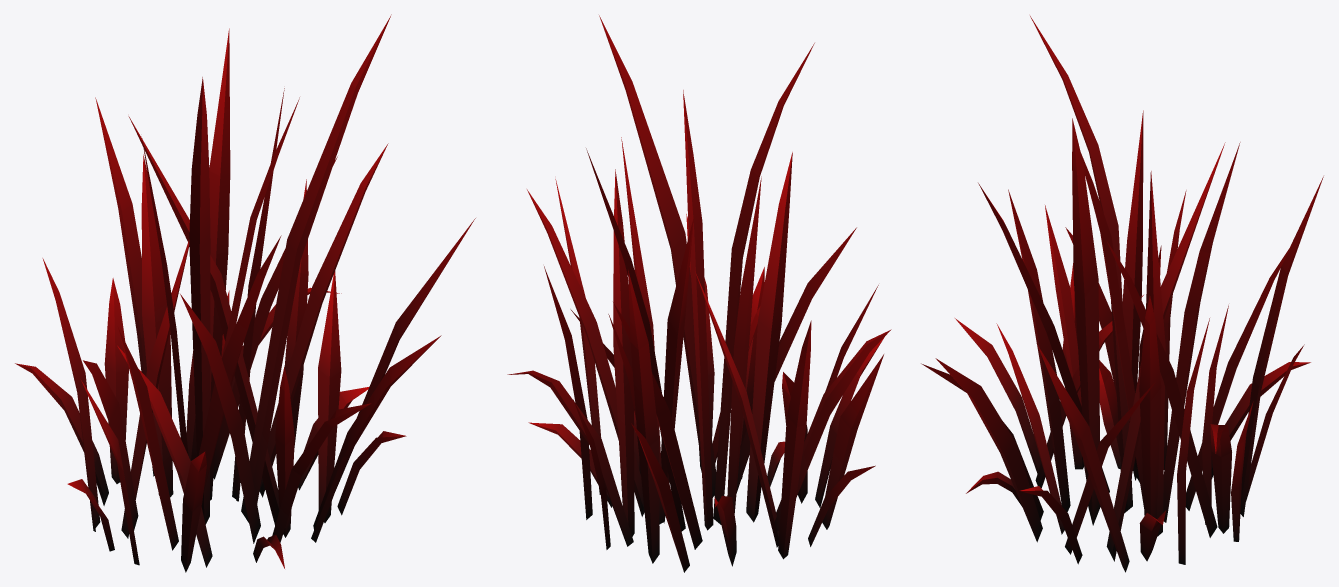
File: TallGrassLOD1.fbx
3 views of the same model, side by side, from view 1: azimuth 30°, elevation 25°; view 2: azimuth 150°, elevation 25°; view 3: azimuth 270°, elevation 25° (orthographic). The views are drawn at different scales.
Visible parts, largest first — view 1: TallGrassLOD1; view 2: TallGrassLOD1; view 3: TallGrassLOD1.
Part boxes in pixels (x1,y1,x2,y2): TallGrassLOD1: [15, 14, 475, 572]; TallGrassLOD1: [507, 15, 891, 572]; TallGrassLOD1: [921, 16, 1323, 572].
Bounding box in the file's own units: 329 × 429 × 319.
